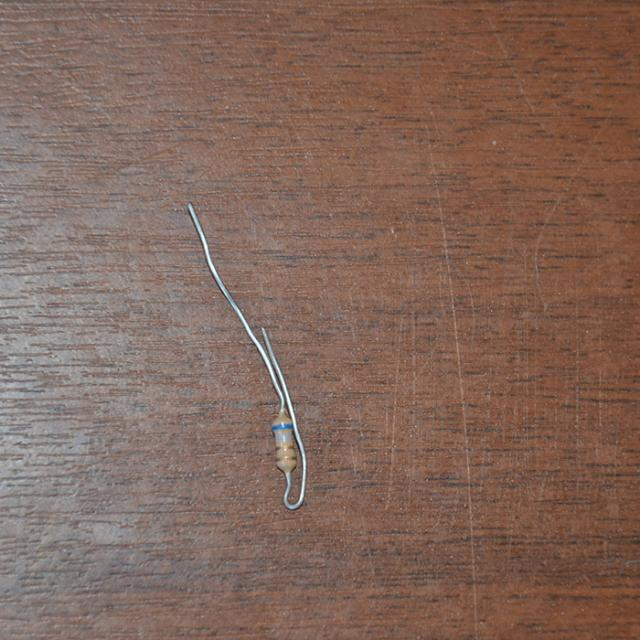blue: (272, 425, 292, 430)
gold: (276, 457, 296, 461), (276, 446, 293, 450)
resistor: (256, 404, 311, 485)
white: (276, 435, 293, 440)
